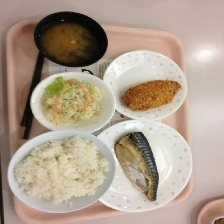dal: (35, 14, 105, 67)
